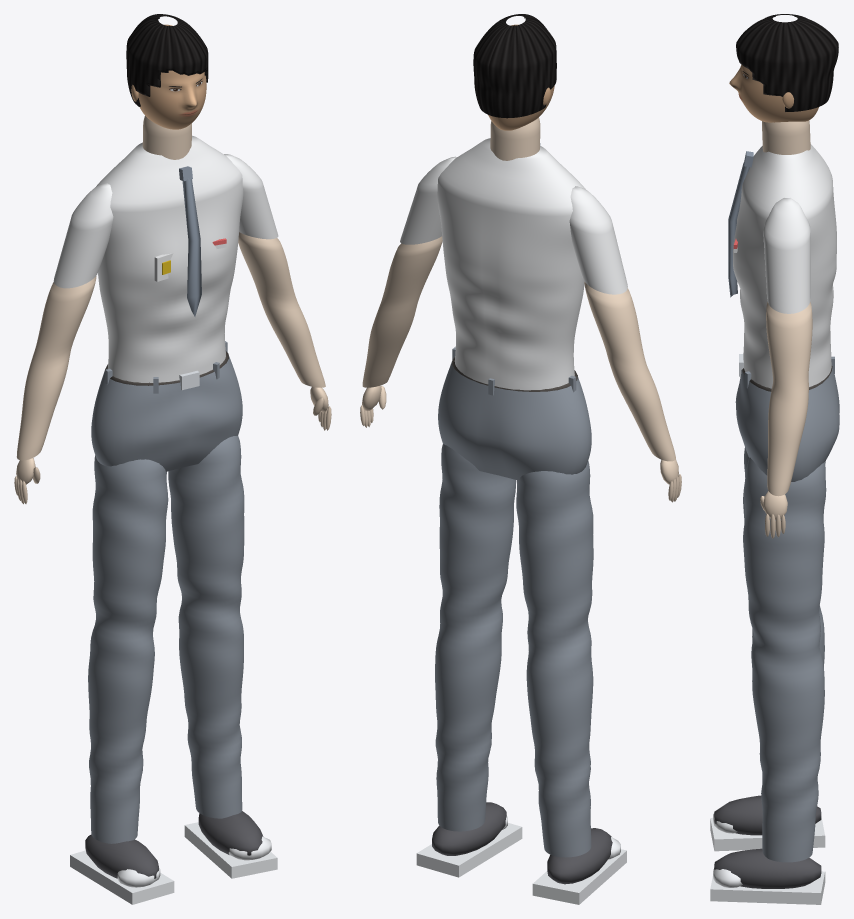
File: csl_char_ren.glb
3 renders of one model, left to right at view 1: azimuth 30°, elevation 25°; view 2: azimuth 150°, elevation 25°; view 3: azimuth 270°, elevation 25°, orthographic.
Visible parts, largest first — view 1: Torso, LegL, LegR, ArmL, ArmR, Head; view 2: Torso, LegL, LegR, ArmL, ArmR, Head; view 3: LegR, Torso, ArmR, Head, LegL.
Boxes of the visible parts, box(x1,y1,x2,y2) form: Torso: box(91, 116, 243, 471); LegL: box(70, 455, 174, 904); LegR: box(168, 435, 277, 878); ArmL: box(14, 183, 113, 504); ArmR: box(224, 154, 331, 430); Head: box(126, 14, 208, 129); Torso: box(437, 117, 591, 480); LegL: box(516, 461, 626, 904); LegR: box(416, 444, 522, 877); ArmL: box(569, 186, 681, 502); ArmR: box(360, 156, 456, 427); Head: box(473, 14, 556, 130); LegR: box(710, 457, 826, 904); Torso: box(728, 120, 839, 481); ArmR: box(760, 198, 812, 538); Head: box(729, 14, 838, 122); LegL: box(710, 447, 825, 851).
Bounding box in the file's own units: 0.6616 × 1.72 × 0.2376.
Materials: 13 (1 with a texture image).
